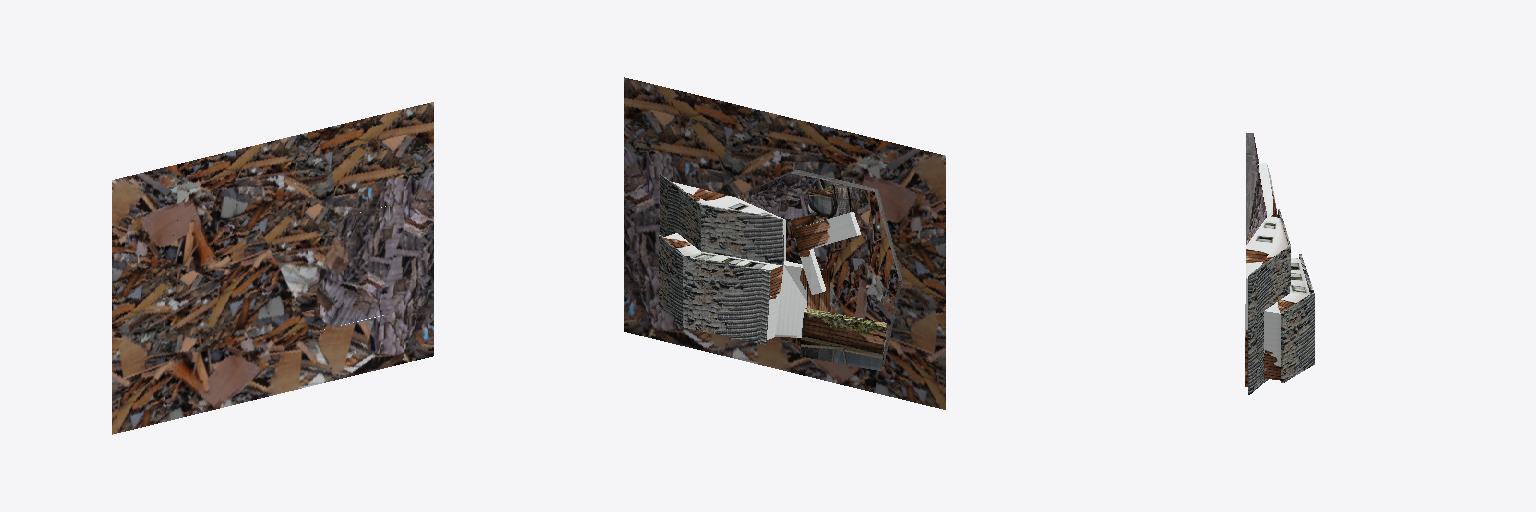
The picture shows the model from 3 angles: view 1: azimuth 30°, elevation 25°; view 2: azimuth 150°, elevation 25°; view 3: azimuth 270°, elevation 25°; orthographic projection.
Parts seen in each view (by area): view 1: Plane; view 2: Plane; view 3: Plane.
Boxes of the visible parts, <box> form: Plane: <box>112,102,433,434</box>; Plane: <box>624,77,945,409</box>; Plane: <box>1245,133,1314,394</box>.
Bounding box in the file's own units: 24.94 × 18.82 × 4.67.
Materials: 1 (1 with a texture image).